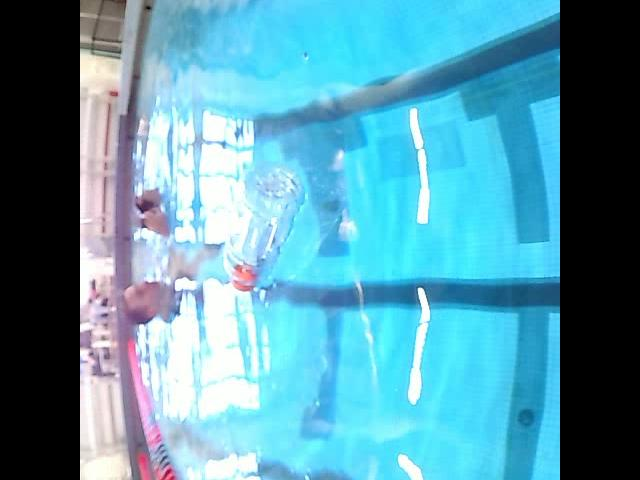Bottle: (218, 154, 308, 298)
